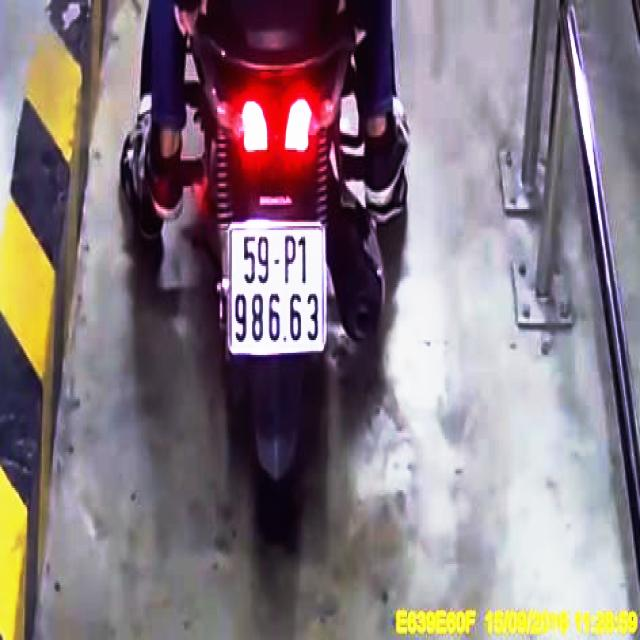license_plate: (231, 230, 326, 351)
